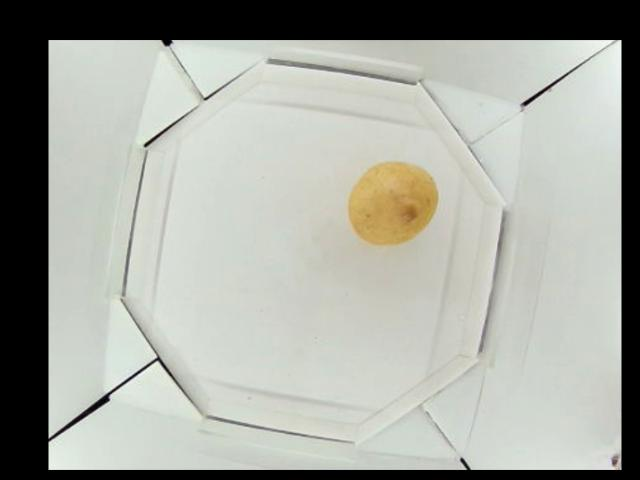Potato: (351, 161, 441, 241)
